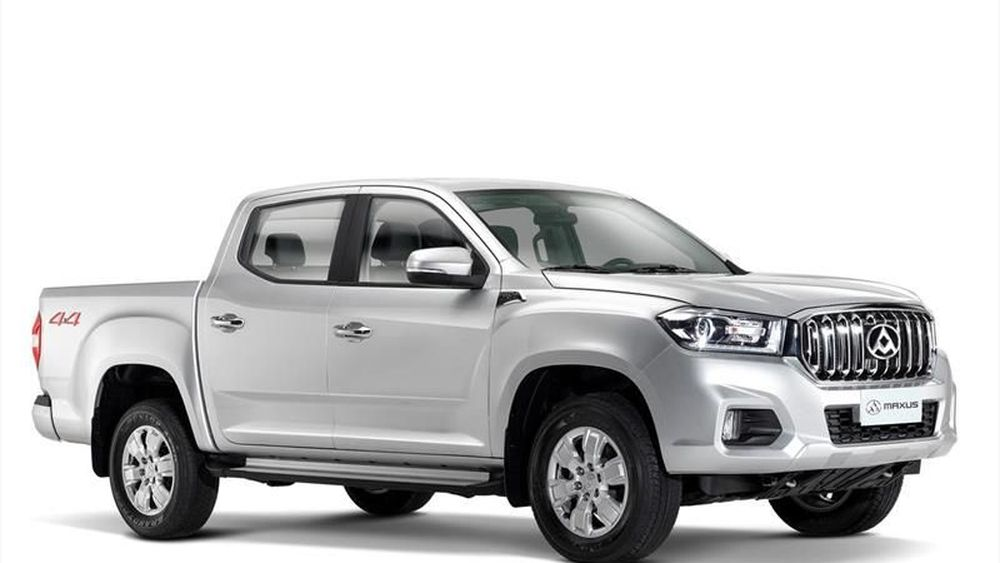pickup: (24, 176, 959, 563)
